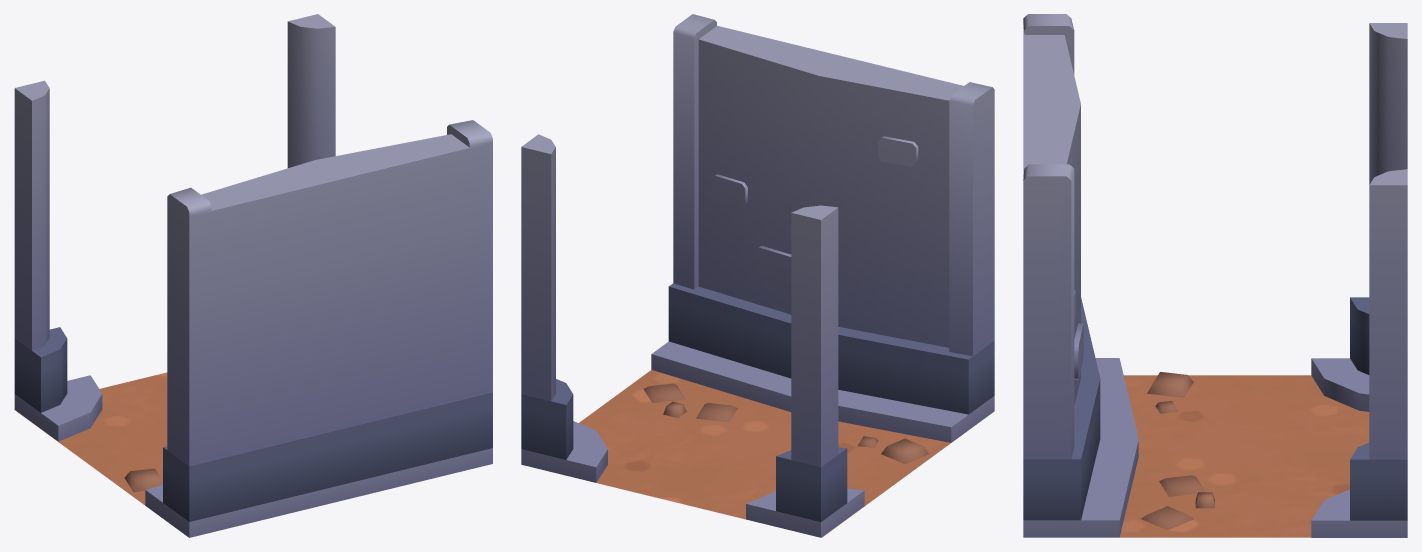
Rendered from modular-dungeon-kit--corridor-junction.glb.
The picture shows the model from 3 angles, left to right: view 1: azimuth 30°, elevation 25°; view 2: azimuth 150°, elevation 25°; view 3: azimuth 270°, elevation 25°; orthographic projection. The views are drawn at different scales.
Parts seen in each view (by area): view 1: corridor-junction; view 2: corridor-junction; view 3: corridor-junction.
Part boxes in pixels (x1,y1,x2,y2): corridor-junction: (14,14,492,537); corridor-junction: (521,14,994,537); corridor-junction: (1023,14,1407,537).
Bounding box in the file's own units: 4.01 × 4.15 × 4.
1 material, 1 textured.
